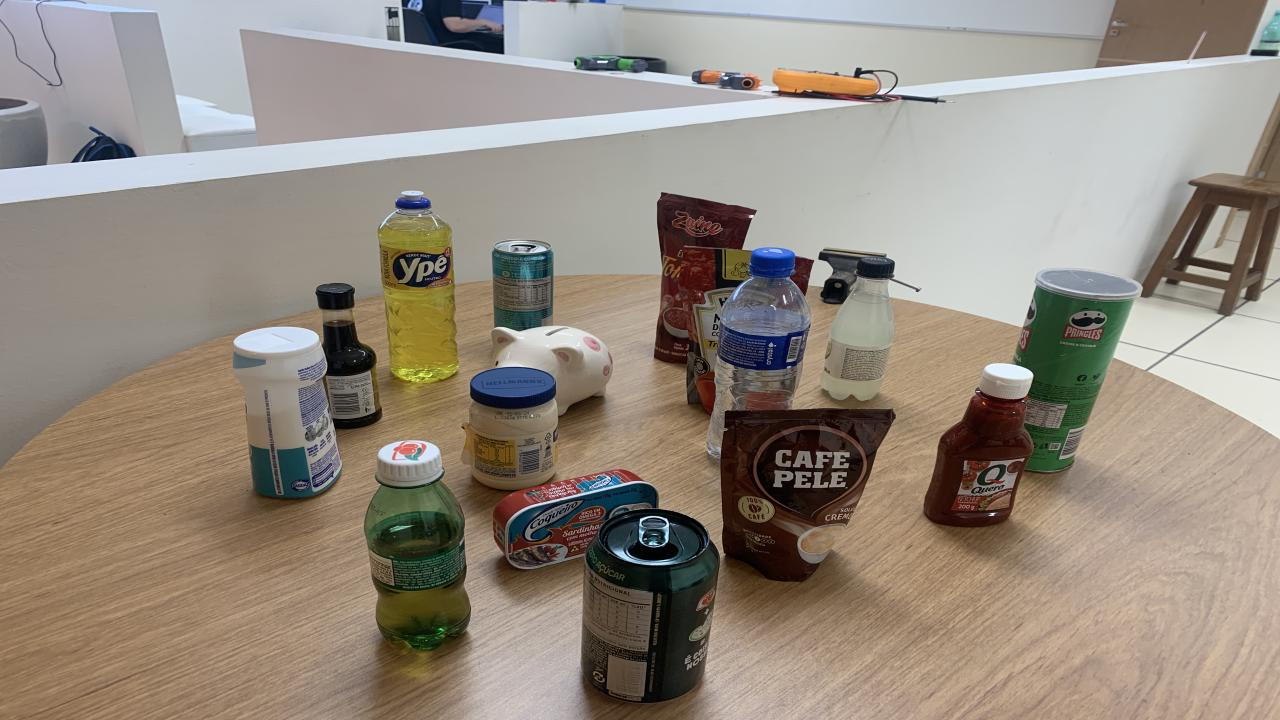Cleaner-Cleanup_Items: (232, 326, 342, 497)
Coffee-Pantry_Items: (720, 409, 895, 581)
Detergent-Cleanup_Items: (378, 191, 458, 382)
English_Sauce-Pantry_Items: (315, 283, 382, 429)
Guarana-Drinks: (365, 439, 470, 651)
Guarana_Can-Drinks: (582, 508, 720, 703)
Ketchup-Pantry_Items: (925, 364, 1032, 527)
Mayonnaise-Pantry_Items: (462, 368, 558, 489)
Pig_Safe-Miscellaneous: (492, 326, 612, 414)
Pringles-Snacks: (1015, 268, 1140, 472)
Soda-Drinks: (820, 257, 895, 401)
Tea-Drinks: (492, 238, 552, 330)
Tomato_Sauce-Pantry_Items: (655, 193, 755, 364), (680, 246, 750, 411), (792, 257, 812, 292)
Tuna_Can-Pantry_Items: (492, 469, 658, 570)
Water_Bottle-Drinks: (708, 248, 810, 458)
